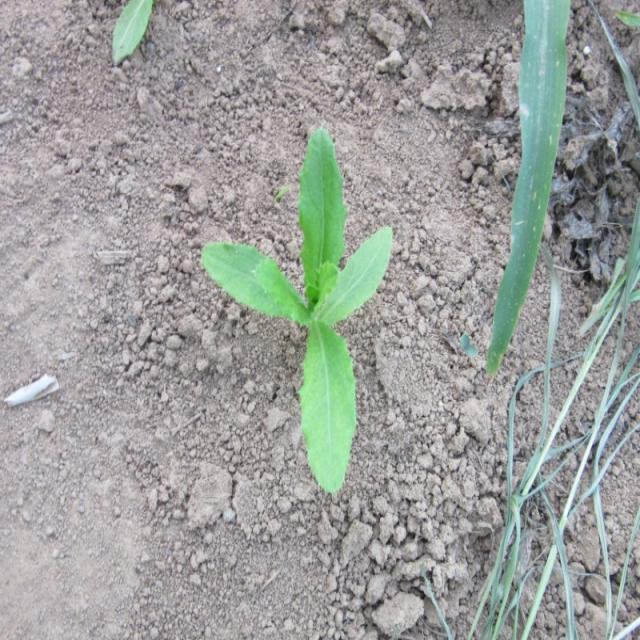cs: (202, 127, 393, 496)
